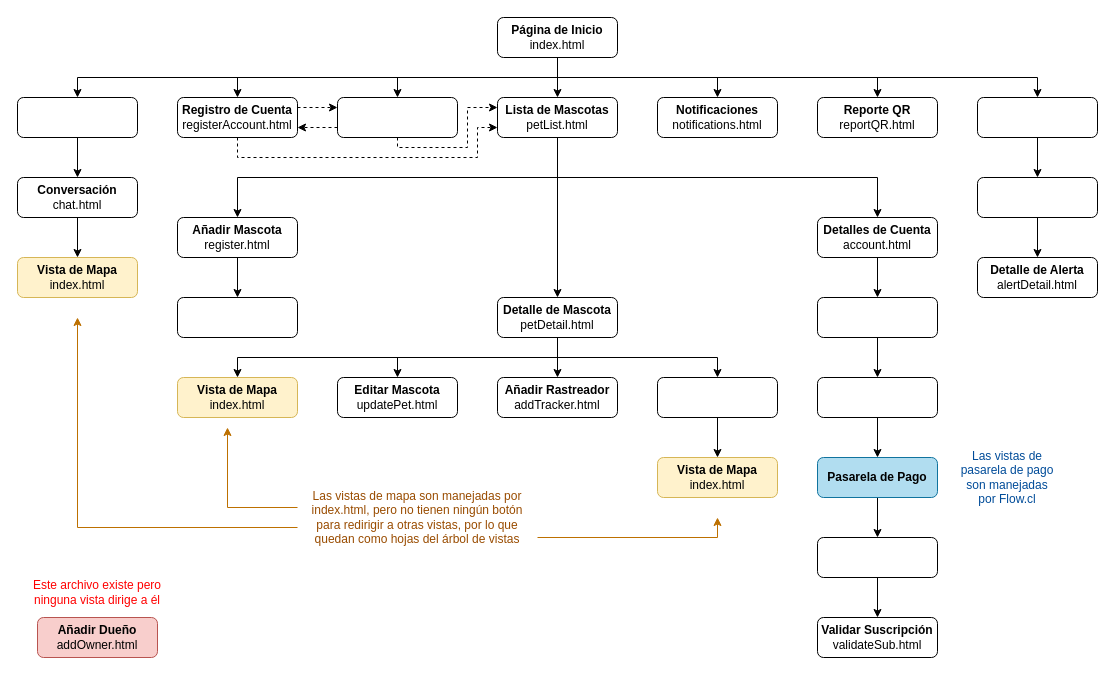
The diagram is 1115 pixels wide and 675 high, and some of its shapes have lost their labels. Here are the shapes that lost their labels. From the top down, the box of each, then its label:
(16, 96, 138, 138): Mensajes messages.html
(336, 96, 458, 138): Inicio de Sesión login.html
(976, 96, 1098, 138): Reporte Manual reportManual.html
(976, 176, 1098, 218): Lista de Alertas alertList.html
(176, 296, 298, 338): Añadir Mascota QR addPetQR.html
(816, 296, 938, 338): Editar Perfil editProfile.html
(656, 376, 778, 418): Gestionar Rastreador manageTracker.html
(816, 376, 938, 418): Gestionar Suscripción subscription.html
(816, 536, 938, 578): Verificar Subscripción verifySub.html
